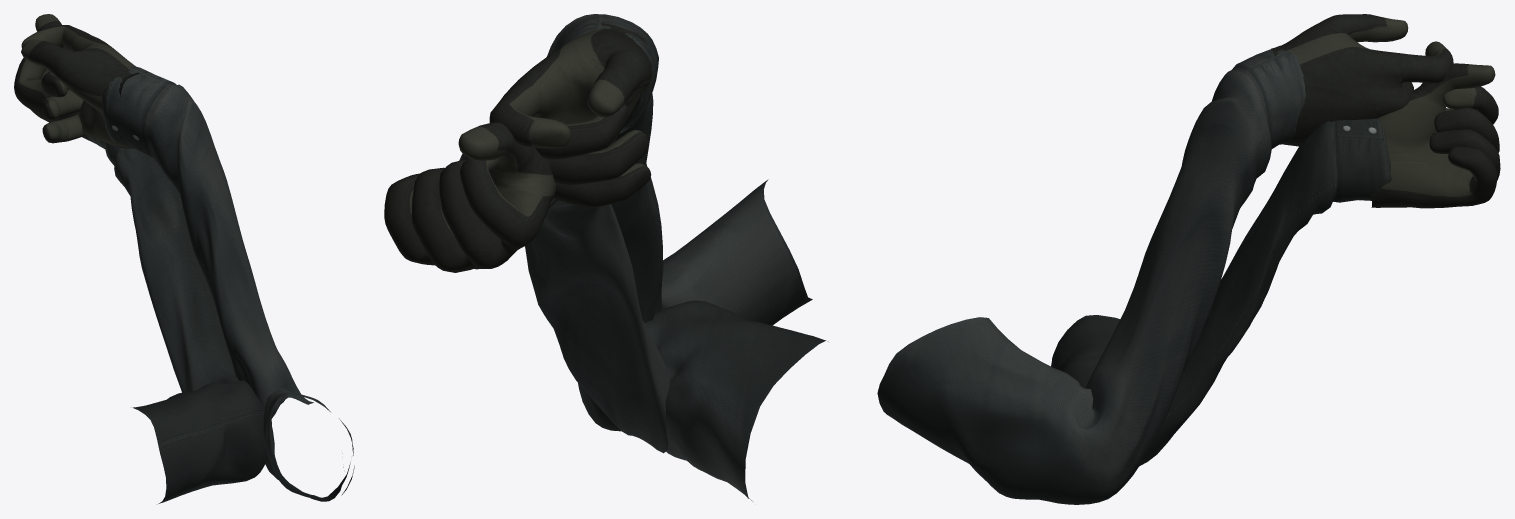
File: smg45_pistol_large_arms.glb
The picture shows the model from 3 angles, left to right: view 1: azimuth 30°, elevation 25°; view 2: azimuth 150°, elevation 25°; view 3: azimuth 270°, elevation 25°; orthographic projection. The views are drawn at different scales.
Visible parts, largest first — view 1: RightArmMesh, LeftArmMesh; view 2: LeftArmMesh, RightArmMesh; view 3: RightArmMesh, LeftArmMesh.
Part boxes in pixels (<box>): RightArmMesh: <box>21,25,354,501</box>; LeftArmMesh: <box>14,14,268,504</box>; LeftArmMesh: <box>384,122,827,501</box>; RightArmMesh: <box>489,14,812,431</box>; RightArmMesh: <box>877,14,1453,504</box>; LeftArmMesh: <box>1051,63,1500,466</box>.
Bounding box in the file's own units: 0.4064 × 0.8511 × 1.13.
Materials: 4 (4 with a texture image).
